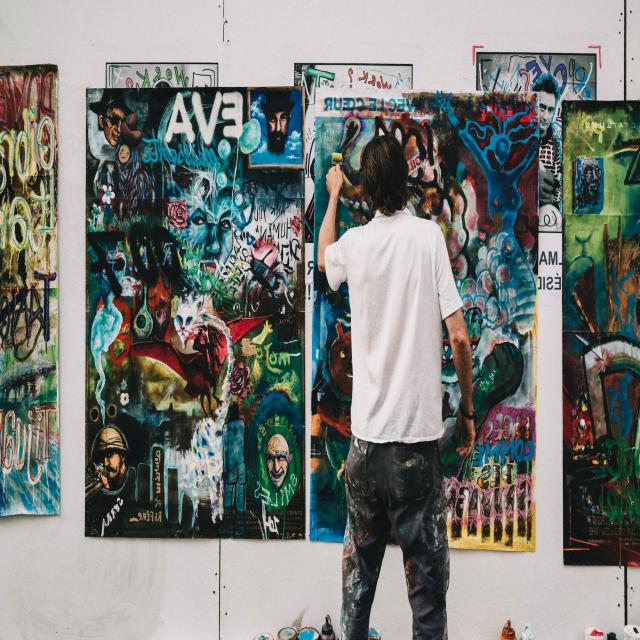adult: (317, 133, 474, 640)
